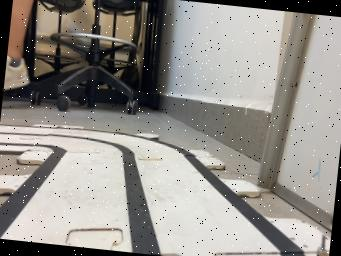street: (0, 125, 305, 256), (0, 125, 305, 256), (0, 125, 305, 256), (0, 125, 305, 256), (0, 125, 305, 256), (0, 125, 305, 256)
